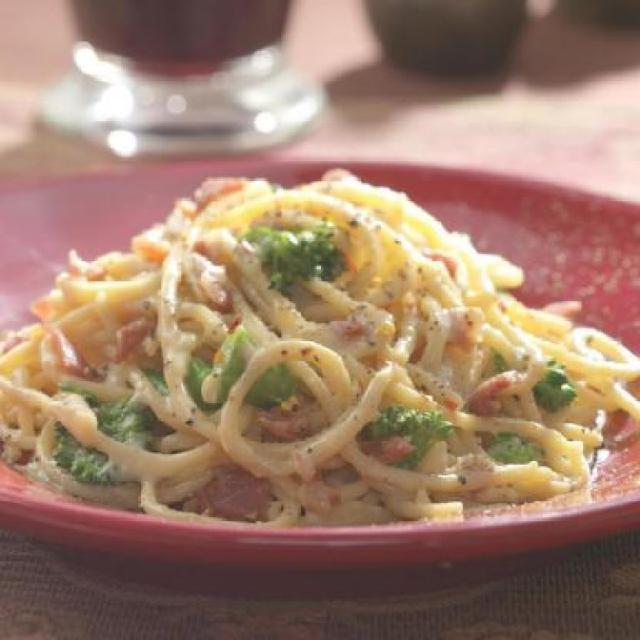Pasta with carbonara sauce: (17, 106, 640, 588)
